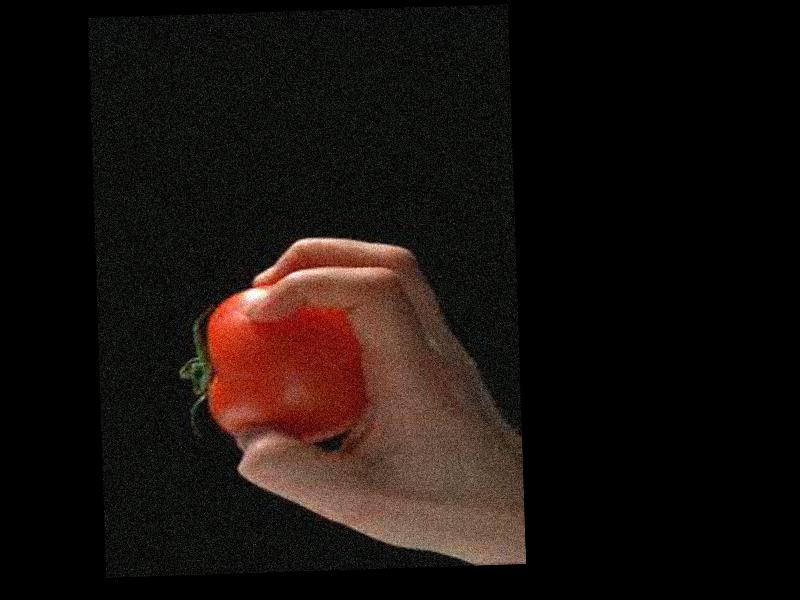Tomato: (179, 285, 362, 446)
